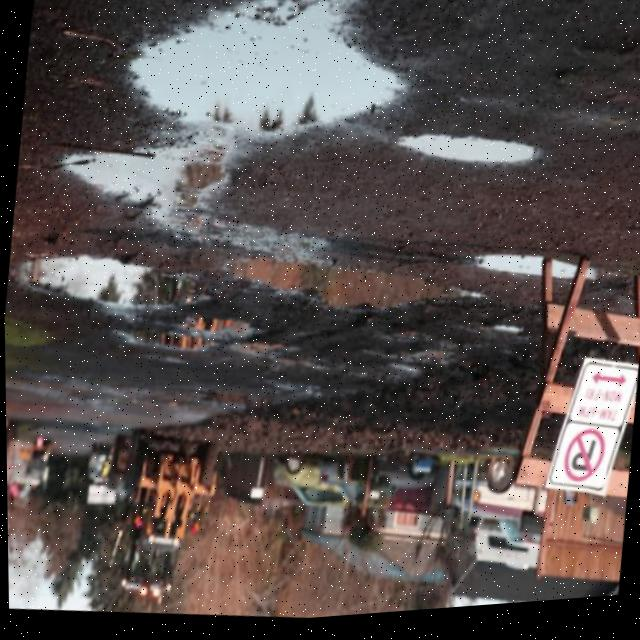Pothole: (87, 0, 413, 207), (200, 217, 493, 357), (25, 102, 261, 263), (3, 223, 215, 330), (364, 117, 556, 201), (446, 231, 606, 309), (83, 303, 229, 385), (108, 291, 261, 363), (95, 381, 241, 427), (360, 343, 464, 395), (465, 315, 548, 356), (244, 369, 310, 405)
